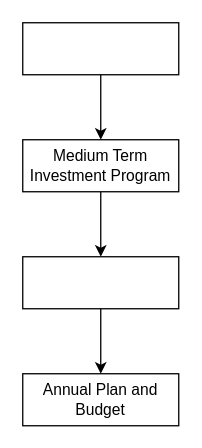
The diagram is 202 pixels wide and 448 high, and some of its shapes have lost their labels. Each missing label, with the box of its shape:
NAFMIP Investment Requirements: (21, 21, 179, 75)
Public Investment Program: (21, 255, 179, 309)
